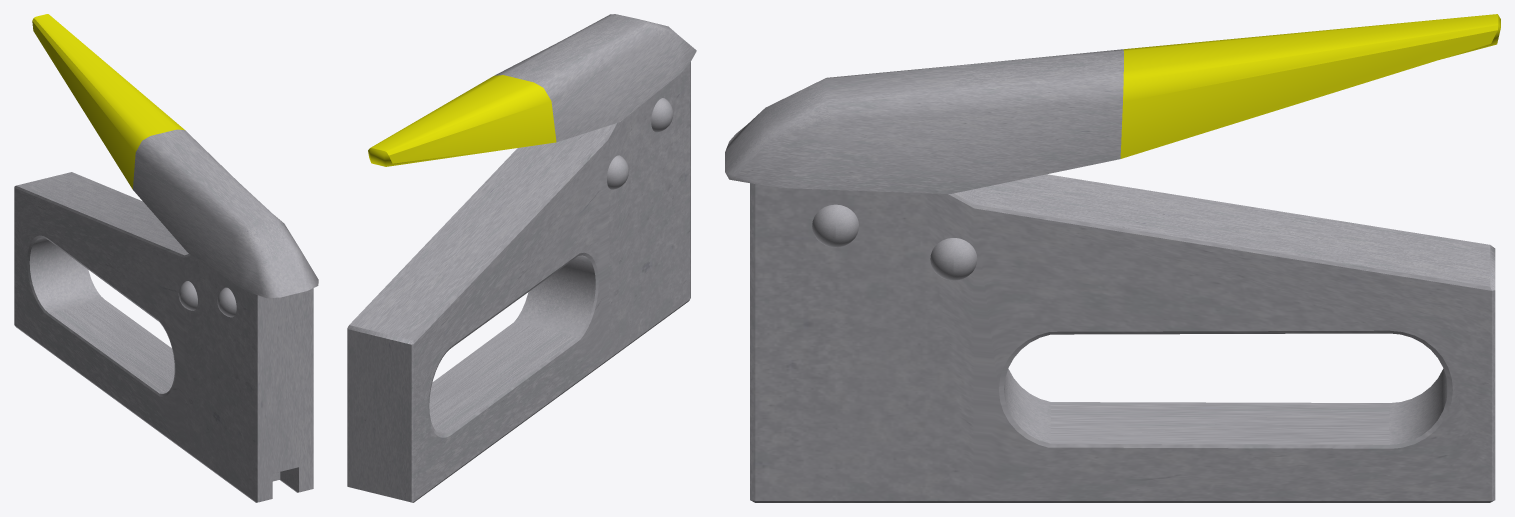
Rendered from Cable stapler.fbx.
3 renders of one model, left to right at view 1: azimuth 30°, elevation 25°; view 2: azimuth 150°, elevation 25°; view 3: azimuth 270°, elevation 25°, orthographic. The views are drawn at different scales.
Parts seen in each view (by area): view 1: Cube, Cube.001; view 2: Cube, Cube.001; view 3: Cube, Cube.001.
Part boxes in pixels (x1,y1,x2,y2): Cube: (14, 172, 313, 502); Cube.001: (32, 14, 318, 298); Cube: (347, 62, 690, 502); Cube.001: (368, 14, 696, 166); Cube: (750, 174, 1495, 502); Cube.001: (725, 14, 1500, 193).
Size of the model in its own units: 43.64 by 164 by 249.
Materials: 2 (1 with a texture image).
